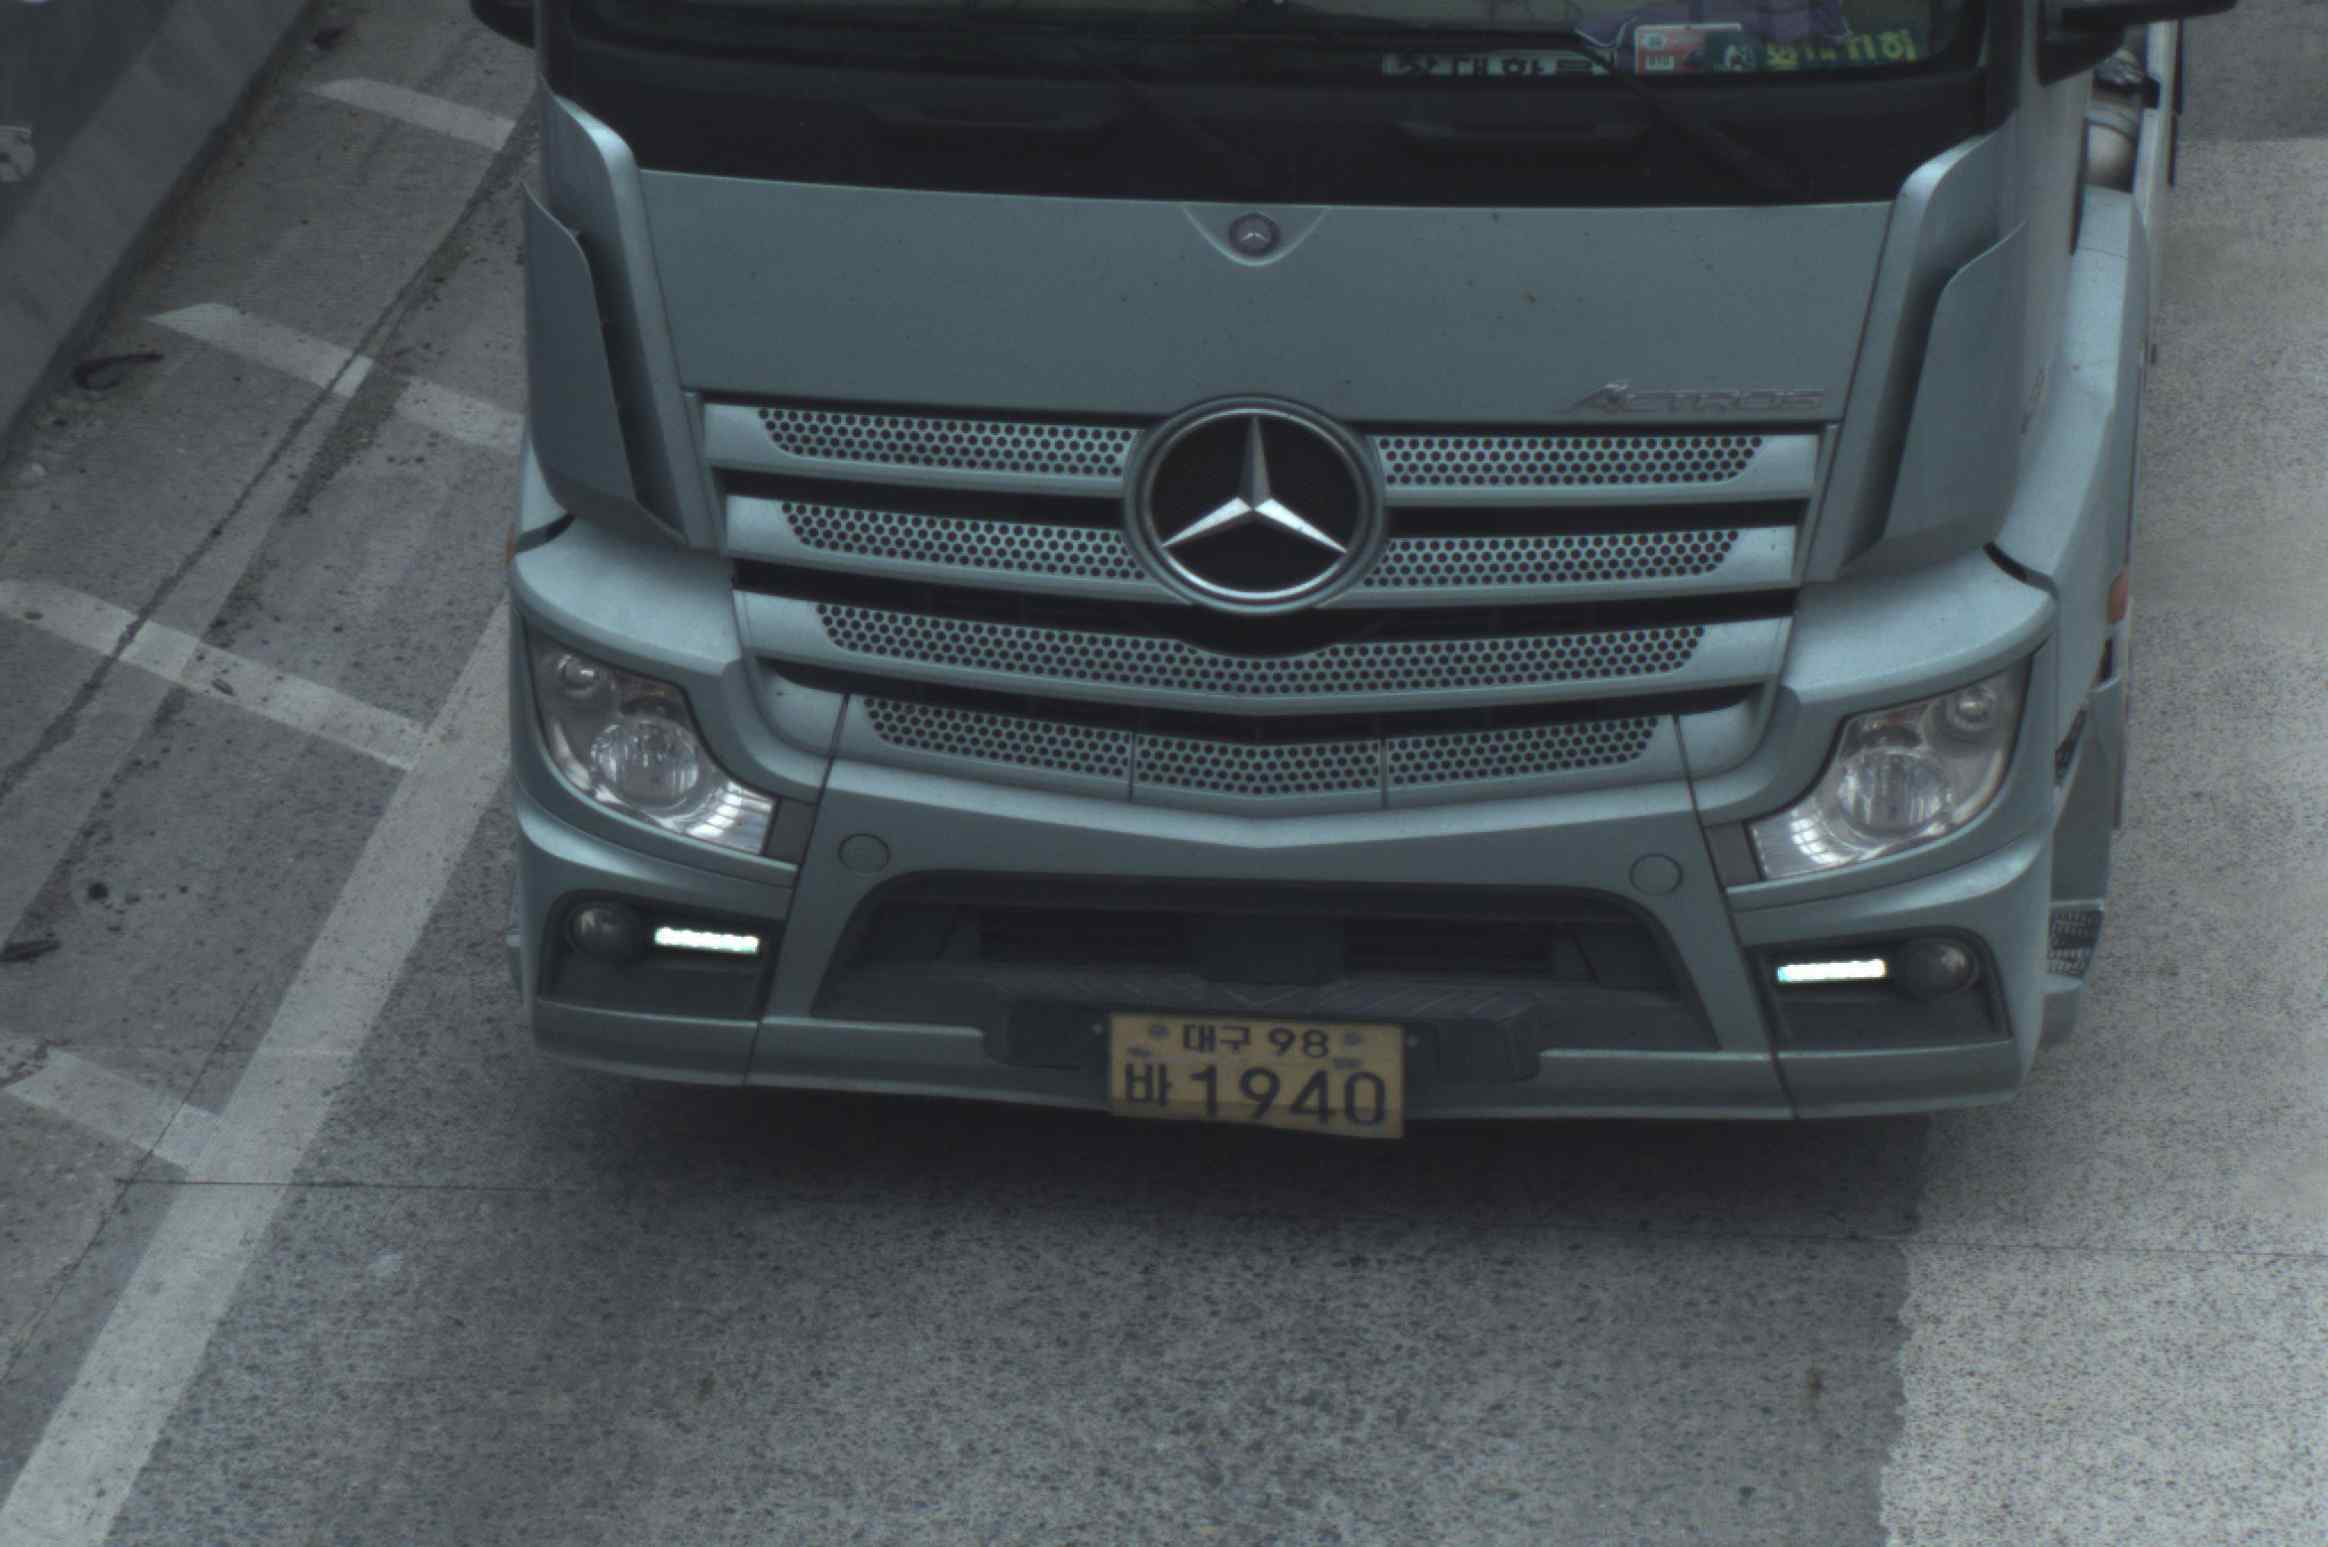car: (443, 1, 2262, 1167)
plate: (1099, 1008, 1406, 1147)
